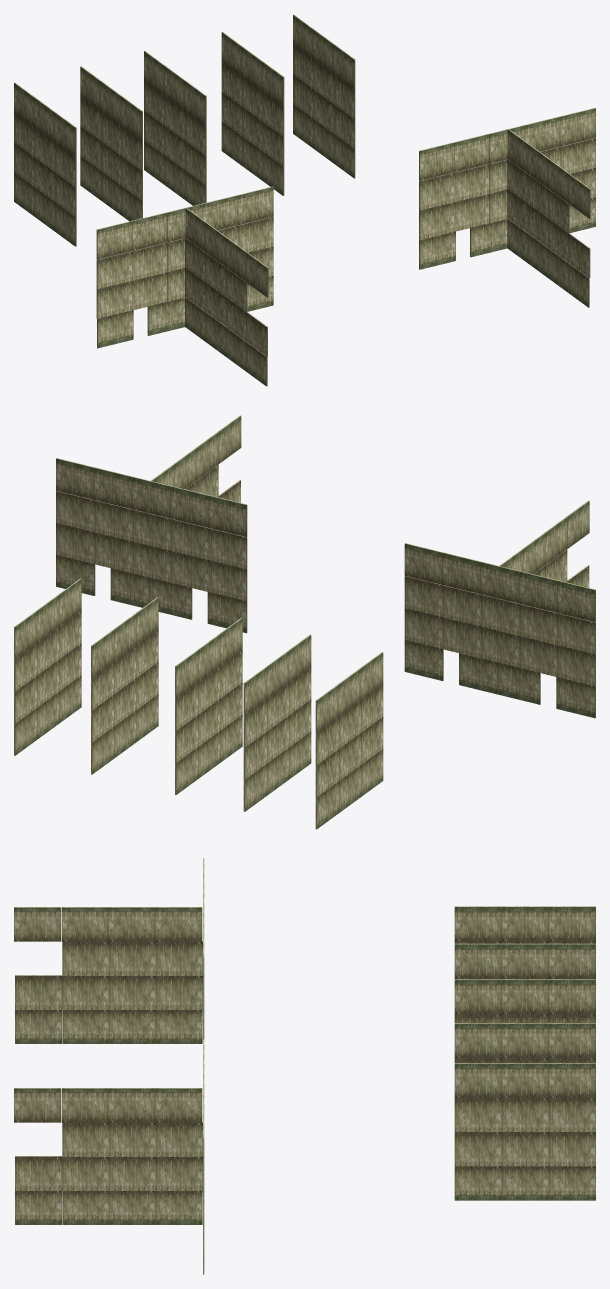
Rendered from HospitalRooms.fbx.
3 renders of one model, top to bottom at view 1: azimuth 30°, elevation 25°; view 2: azimuth 150°, elevation 25°; view 3: azimuth 270°, elevation 25°, orthographic. The views are drawn at different scales.
Parts seen in each view (by area): view 1: Cube.021, Cube.003, Cube.007, Cube.002, Cube.008, Cube.004, Cube.005; view 2: Cube.021, Cube.003, Cube.004, Cube.002, Cube.007, Cube.008, Cube.005; view 3: Cube.003, Cube.021, Cube.008, Cube.005, Cube.007, Cube.002, Cube.004.
Boxes of the visible parts, x1,y1,x2,y2 form: Cube.021: (96, 186, 273, 386); Cube.003: (419, 108, 595, 307); Cube.007: (221, 32, 284, 195); Cube.002: (14, 82, 76, 246); Cube.008: (293, 14, 355, 178); Cube.004: (80, 66, 142, 221); Cube.005: (144, 51, 206, 205); Cube.021: (404, 500, 595, 718); Cube.003: (56, 415, 247, 633); Cube.004: (243, 634, 311, 811); Cube.002: (315, 652, 383, 829); Cube.007: (91, 597, 158, 774); Cube.008: (14, 578, 81, 755); Cube.005: (175, 617, 242, 794); Cube.003: (14, 1039, 204, 1274); Cube.021: (14, 858, 204, 1043); Cube.008: (454, 1063, 595, 1200); Cube.005: (454, 979, 595, 1022); Cube.007: (454, 1023, 595, 1062); Cube.002: (454, 906, 595, 943); Cube.004: (454, 943, 595, 979).
Size of the model in its own units: 16867 by 3859 by 14819.
73 materials, 73 textured.
